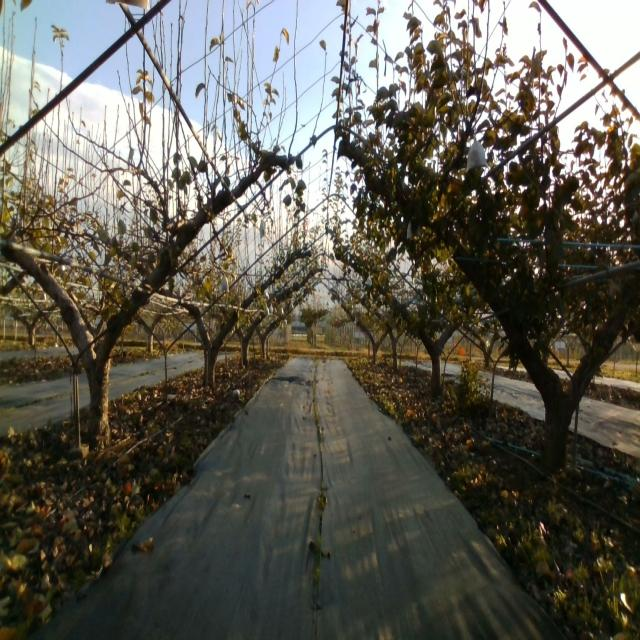pearbags: (465, 134, 489, 174)
